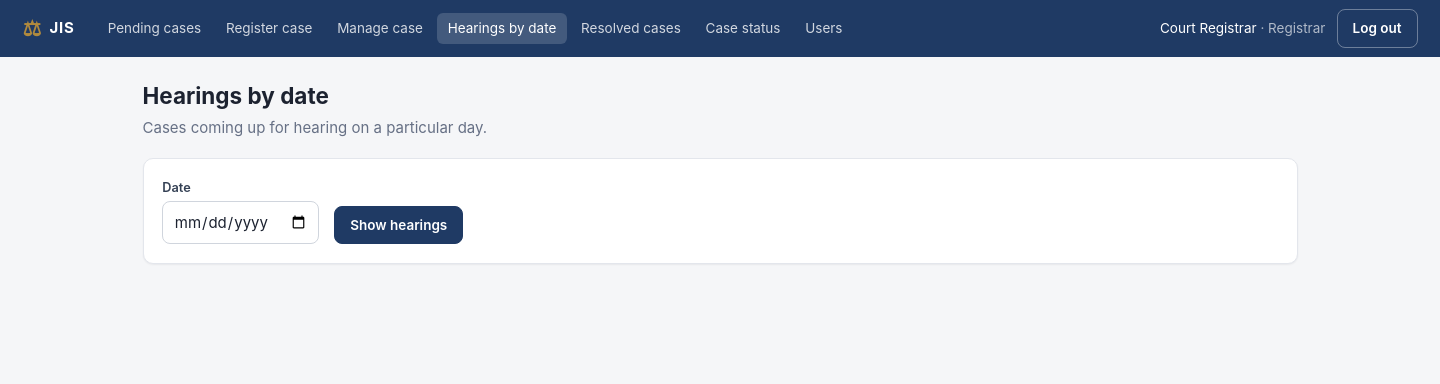
Test: registrar queries › hearings by date
The image size is (1440, 384).
Type "2030-01-07" into the date field labelled "Date".
click(241, 223); type("2030-01-07")  # box left=162, top=201, right=319, bottom=244
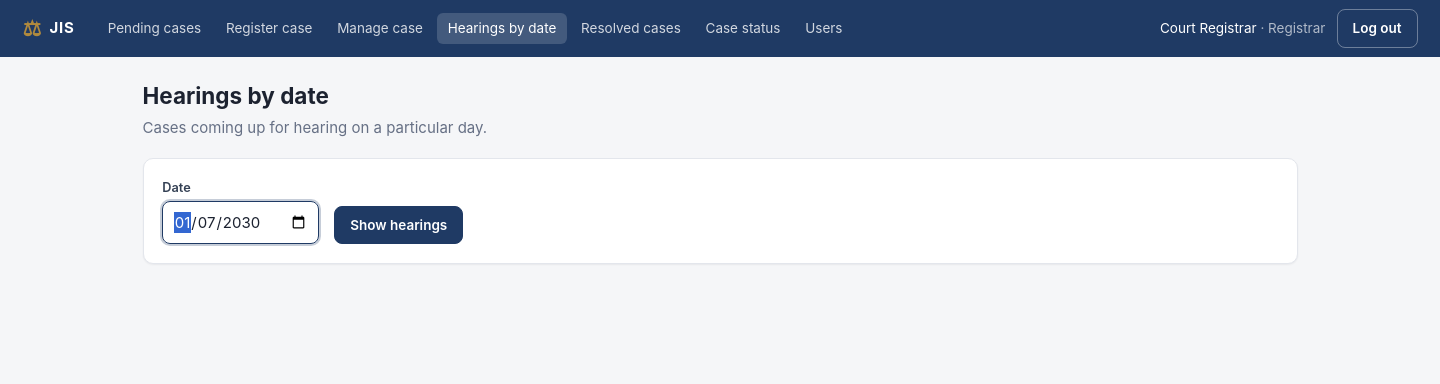
Click the button "Show hearings".
click(399, 225)  # box left=334, top=206, right=463, bottom=244
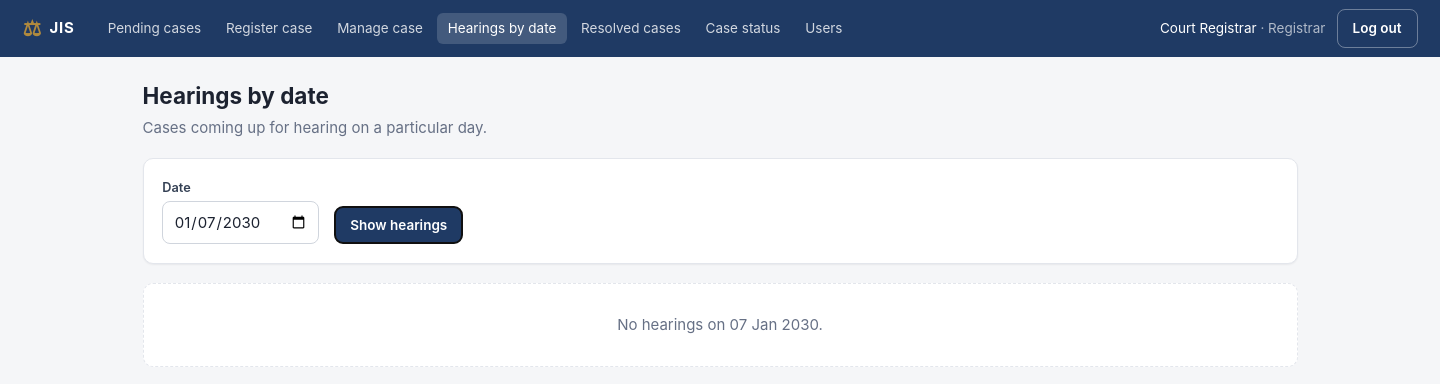
Check: the text "No hearings on 07 Jan 2030." is shown, box left=142, top=283, right=1298, bottom=367
